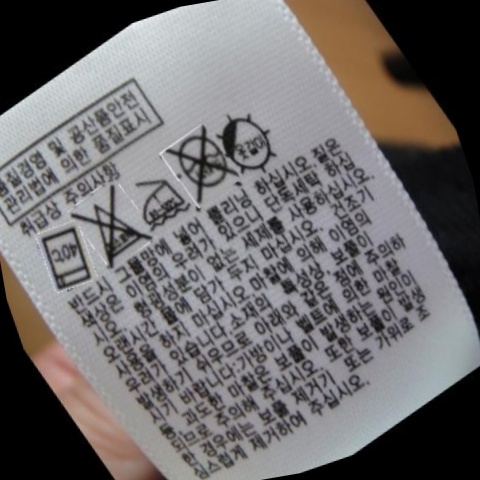40C: (30, 219, 99, 299)
DN_dry_clean: (166, 117, 234, 205)
iron_low: (128, 166, 191, 234)
line_dry_in_shade: (213, 99, 285, 182)
non_chlorine_bleach: (70, 176, 151, 272)
